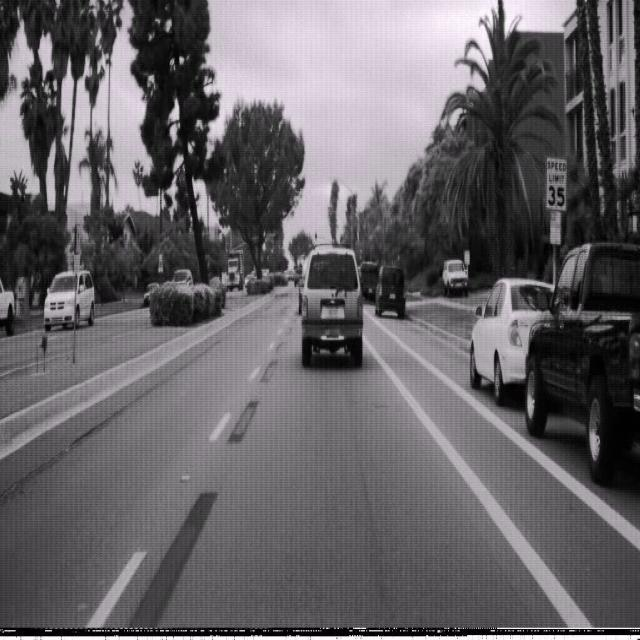speedLimit35: (545, 155, 568, 212)
